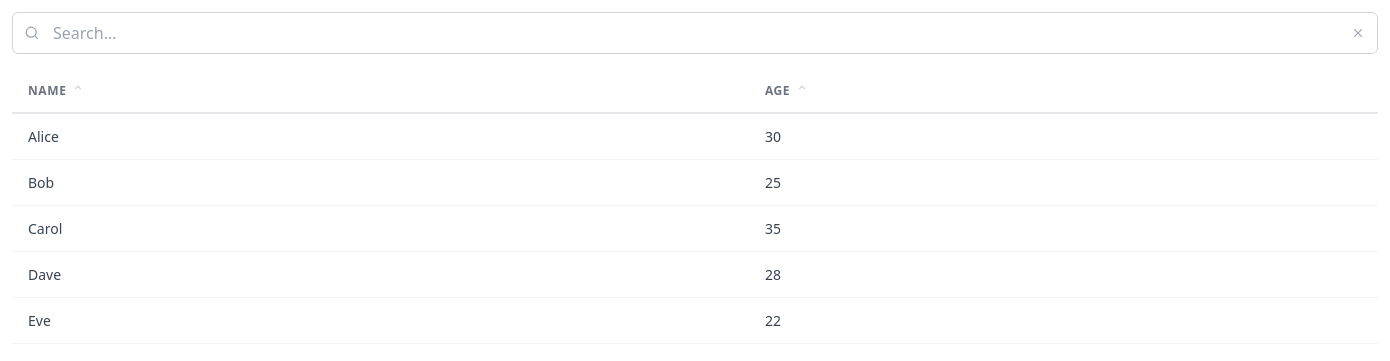
DataTable › filters via search
Step 1. Type "ali" into the search field named "Search table" → (695, 33), box [12, 12, 1378, 54]
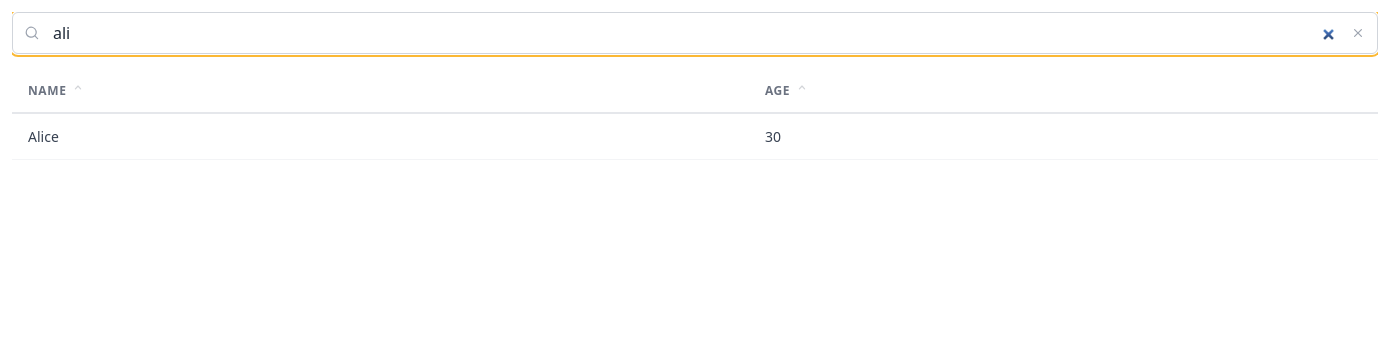
Expected: the text "Alice" is shown, [12, 113, 749, 160]
Expected: the text "Bob" is gone
